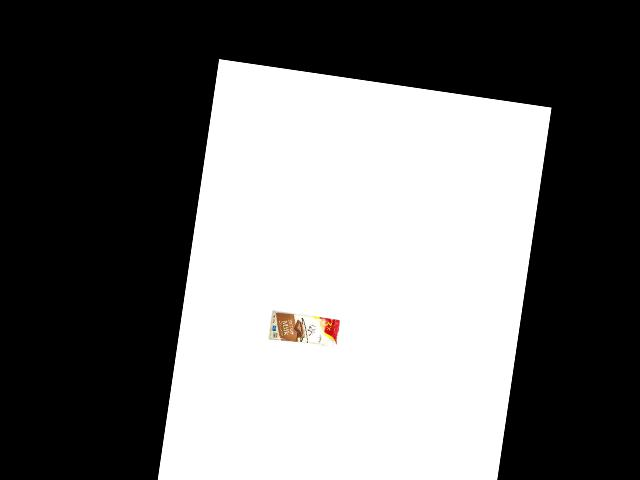chocolate: (269, 308, 342, 350)
